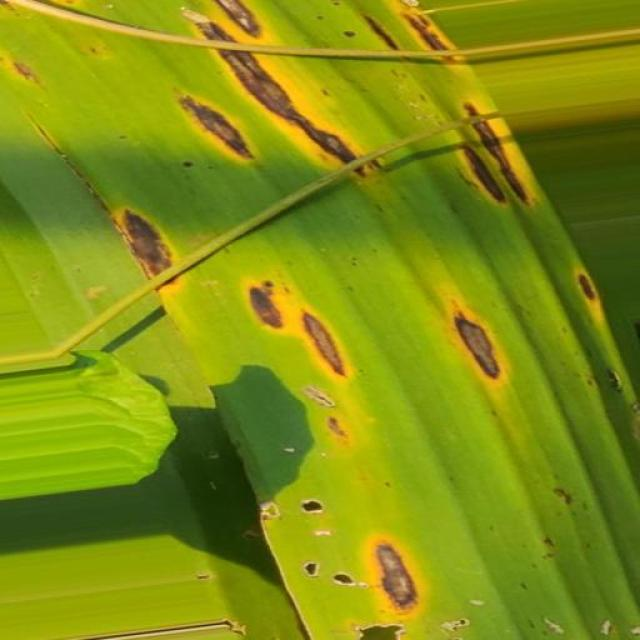Early_rust: (9, 0, 602, 640)
